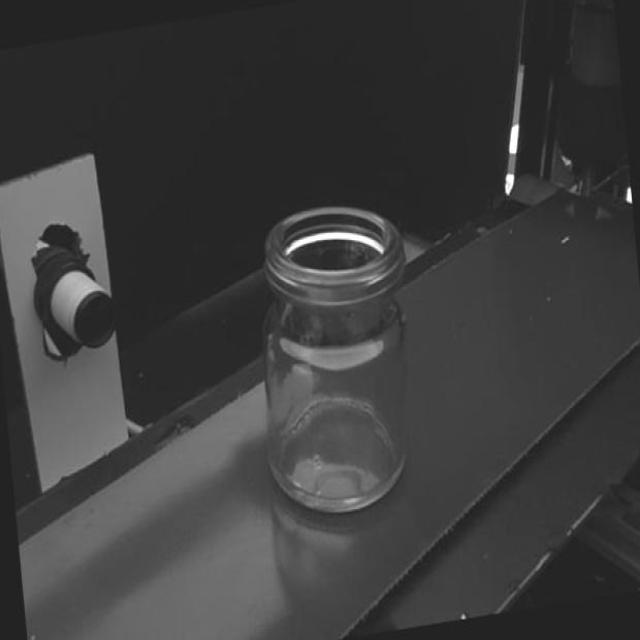glass: (249, 193, 427, 528)
